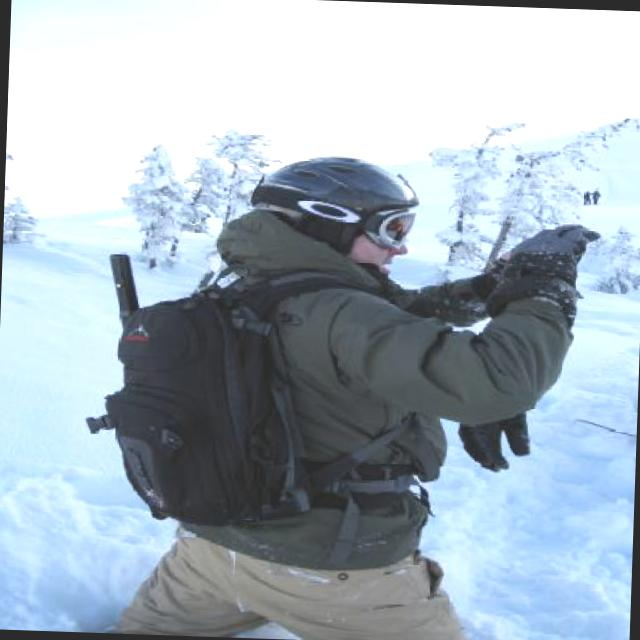Person: (123, 167, 588, 640)
